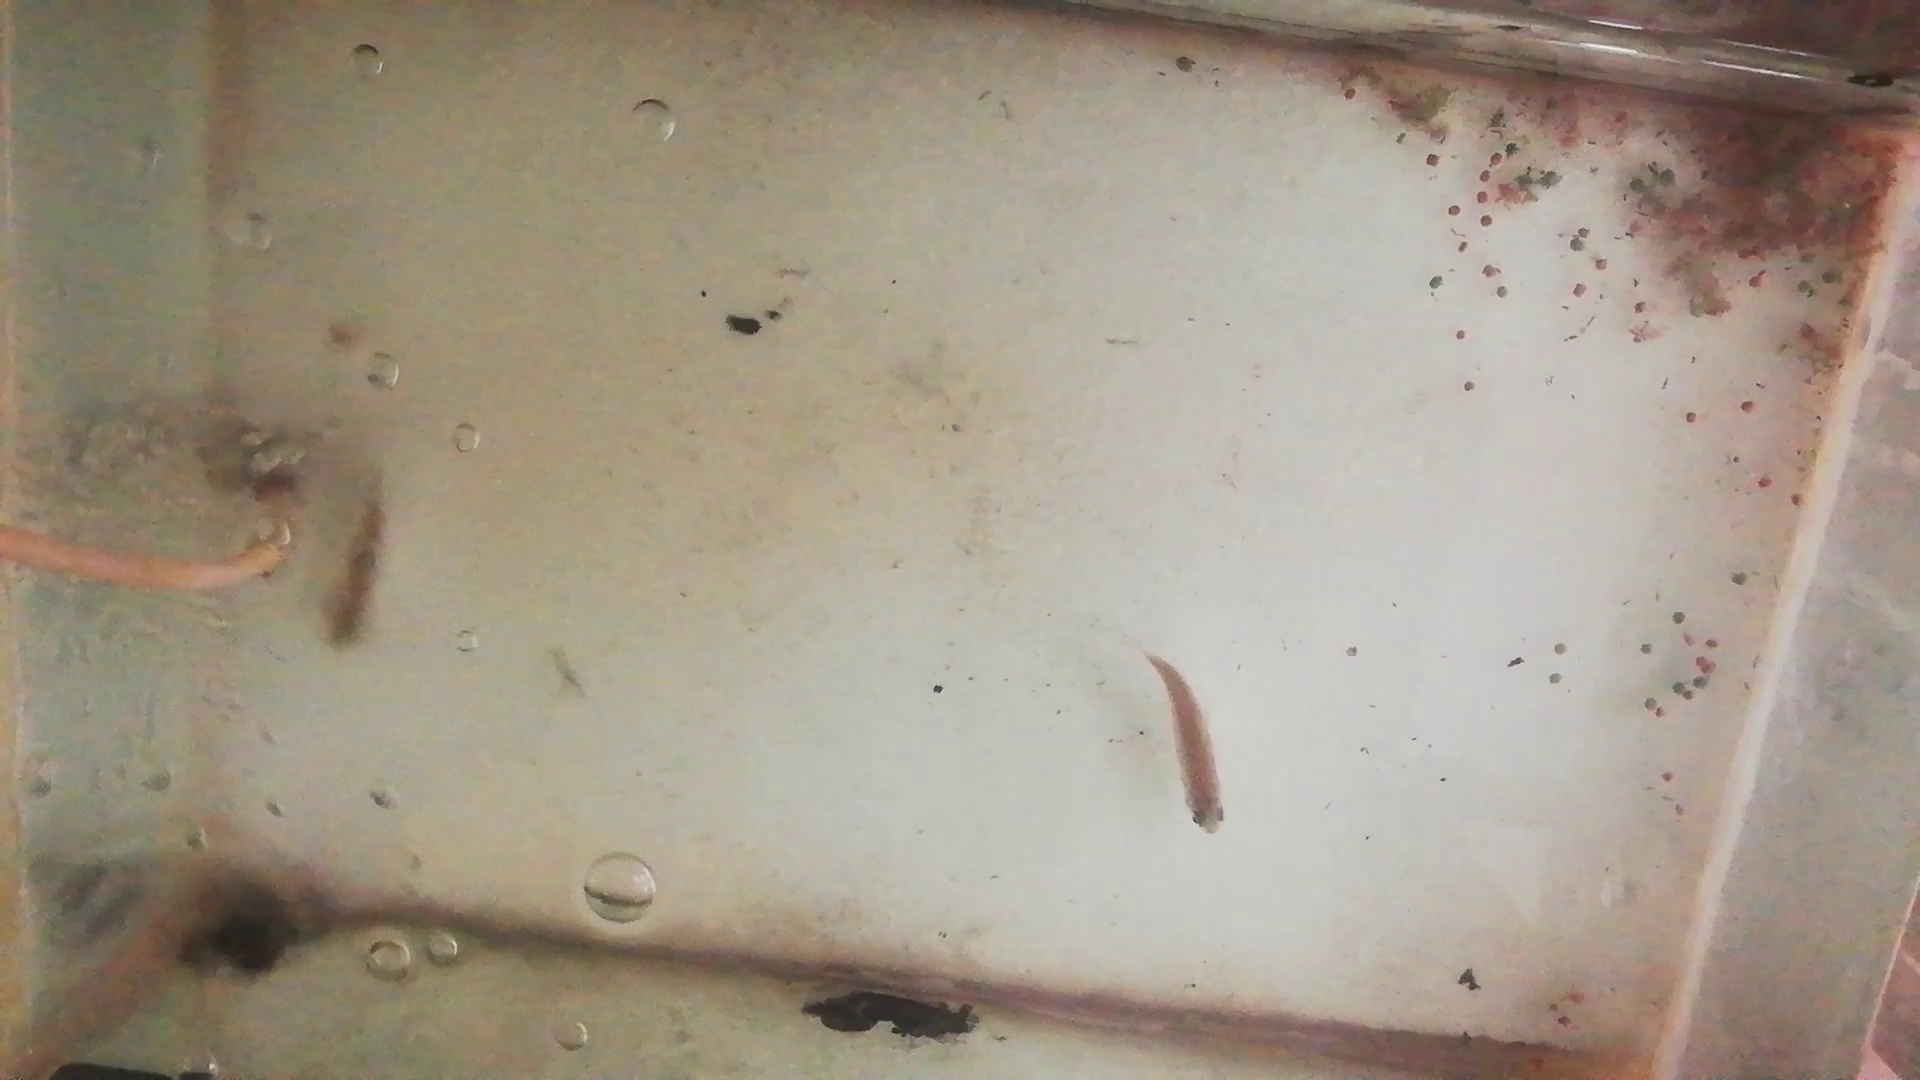fish: (1145, 655, 1230, 837), (323, 479, 389, 651)
